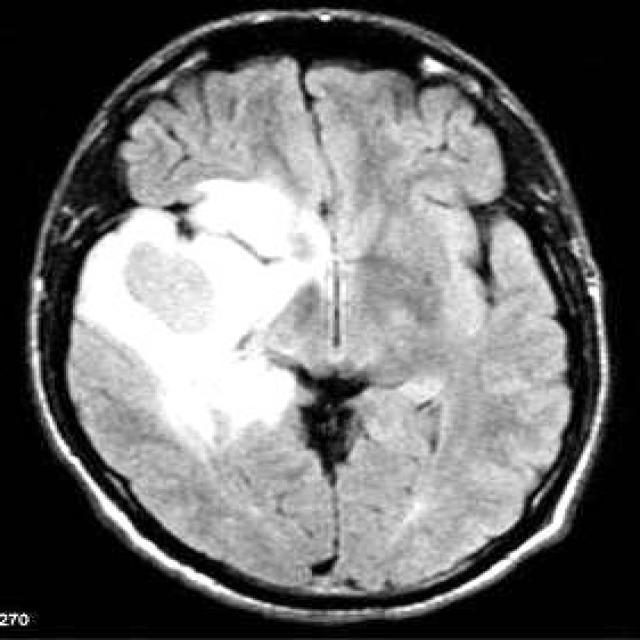tumor: (75, 180, 317, 456)
